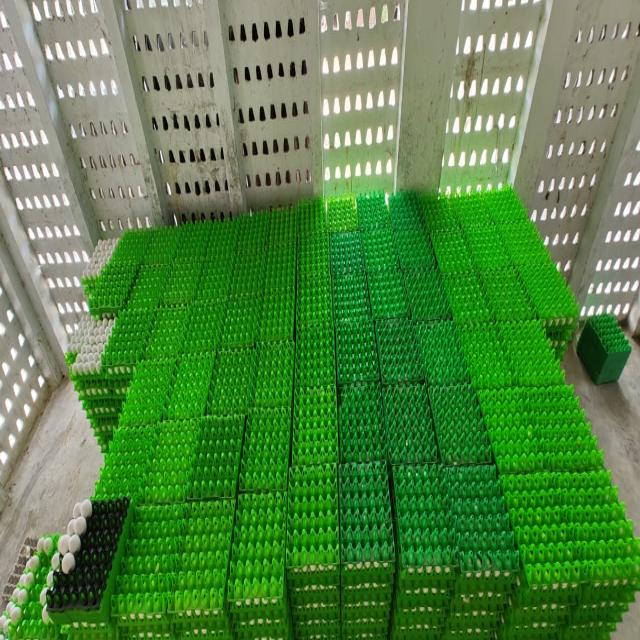egg_tray: (500, 467, 640, 636), (392, 465, 518, 633), (112, 500, 234, 631), (96, 416, 244, 504), (392, 464, 456, 637), (478, 385, 603, 472), (46, 497, 132, 621), (501, 221, 578, 357), (339, 464, 394, 635), (445, 465, 519, 591), (363, 210, 448, 319), (287, 465, 340, 636), (112, 505, 184, 630), (392, 464, 455, 606), (228, 493, 290, 636), (498, 221, 578, 331), (66, 316, 128, 450), (172, 500, 234, 629), (339, 462, 394, 604), (456, 321, 564, 387), (286, 464, 339, 596), (66, 315, 128, 427), (0, 536, 59, 637), (138, 418, 203, 503), (446, 565, 516, 636), (430, 385, 492, 464), (94, 424, 157, 498), (518, 254, 578, 330), (188, 416, 244, 497), (239, 404, 291, 490), (384, 382, 438, 463), (498, 321, 564, 385), (119, 357, 176, 427), (338, 383, 386, 461), (102, 309, 156, 378), (578, 313, 631, 383), (456, 323, 513, 387), (292, 387, 338, 465), (416, 320, 470, 385), (208, 347, 256, 415), (166, 354, 214, 419), (376, 318, 424, 382), (52, 499, 92, 574), (532, 291, 577, 357), (336, 315, 379, 383), (498, 212, 549, 269), (480, 267, 534, 320), (68, 316, 115, 376), (443, 271, 494, 323), (88, 262, 138, 315), (254, 342, 294, 406), (403, 267, 450, 320), (296, 324, 335, 387), (2, 538, 38, 605), (460, 517, 510, 565), (220, 289, 262, 346), (144, 305, 188, 358), (80, 380, 126, 430), (196, 241, 234, 301), (184, 300, 225, 355), (464, 221, 510, 269), (368, 268, 410, 318), (81, 239, 119, 293), (256, 289, 295, 341), (332, 272, 371, 323), (430, 228, 472, 275), (162, 258, 204, 304), (296, 272, 332, 325), (110, 230, 166, 264), (126, 267, 170, 309), (394, 228, 436, 271), (360, 227, 399, 272), (360, 225, 398, 271), (484, 186, 528, 225), (418, 194, 459, 234), (264, 242, 296, 293), (108, 229, 153, 265), (230, 249, 266, 294), (236, 211, 270, 258), (65, 315, 96, 365), (297, 233, 330, 278), (390, 191, 425, 233), (456, 198, 494, 236), (178, 222, 213, 263), (141, 228, 180, 264), (390, 191, 424, 232), (330, 232, 364, 273), (356, 191, 390, 230), (206, 224, 240, 262), (356, 192, 390, 229), (296, 199, 328, 238), (90, 410, 118, 453), (327, 195, 358, 231), (268, 208, 297, 246), (546, 324, 574, 360), (395, 224, 419, 234), (456, 581, 470, 595), (396, 225, 409, 234), (401, 604, 410, 611), (552, 265, 558, 274), (458, 544, 462, 554), (409, 227, 416, 232), (476, 516, 482, 521), (510, 534, 512, 548), (70, 527, 74, 533), (300, 597, 304, 603), (440, 442, 442, 454), (78, 525, 82, 530), (502, 600, 506, 605), (470, 523, 476, 526), (514, 552, 516, 559), (434, 598, 440, 600), (92, 387, 95, 390), (296, 593, 302, 594), (436, 605, 438, 608), (544, 266, 548, 267), (98, 241, 100, 243), (388, 593, 389, 596), (573, 300, 574, 302), (562, 280, 563, 282), (220, 264, 222, 265), (231, 226, 233, 227), (0, 607, 1, 609), (397, 207, 398, 208), (394, 200, 394, 201), (92, 522, 92, 524), (306, 590, 308, 590), (397, 238, 397, 240), (507, 538, 507, 539), (147, 427, 147, 428), (434, 602, 435, 602)
